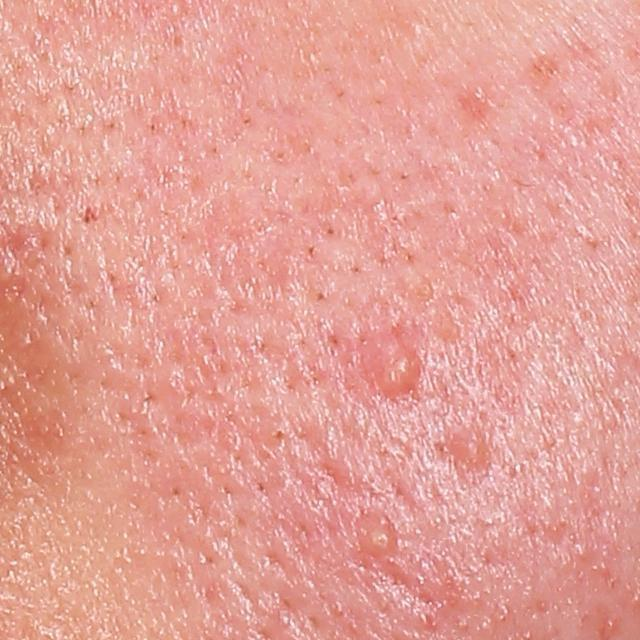comedo: (454, 429, 489, 471)
papule: (371, 346, 425, 403), (350, 512, 406, 558)
